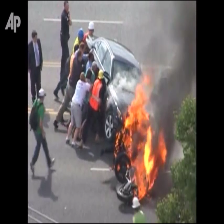fire_h: (122, 67, 167, 198)
fire_l: (114, 132, 120, 157), (126, 162, 129, 169), (116, 165, 120, 170)
